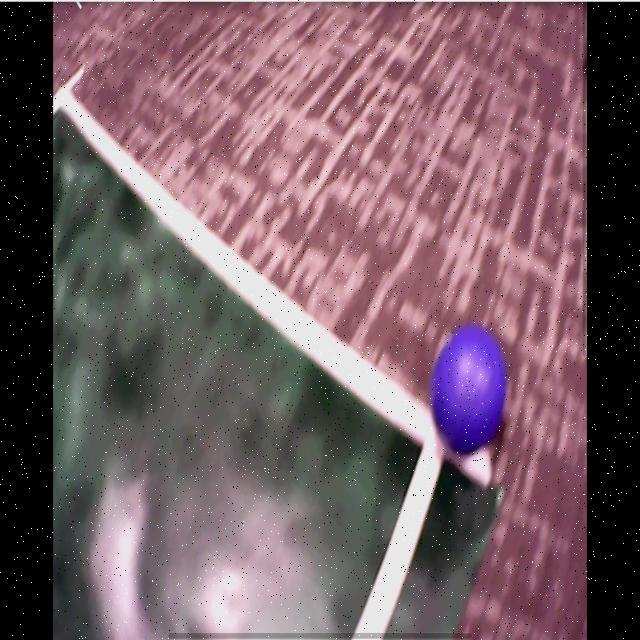ball: (433, 329, 506, 454)
